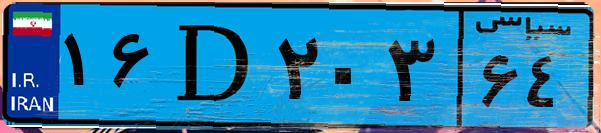0: (330, 28, 385, 110)
1: (57, 26, 110, 100)
2: (270, 28, 330, 110)
3: (385, 28, 445, 110)
4: (525, 38, 570, 115)
6: (475, 38, 525, 113), (110, 28, 158, 98)
D: (158, 12, 270, 120)
